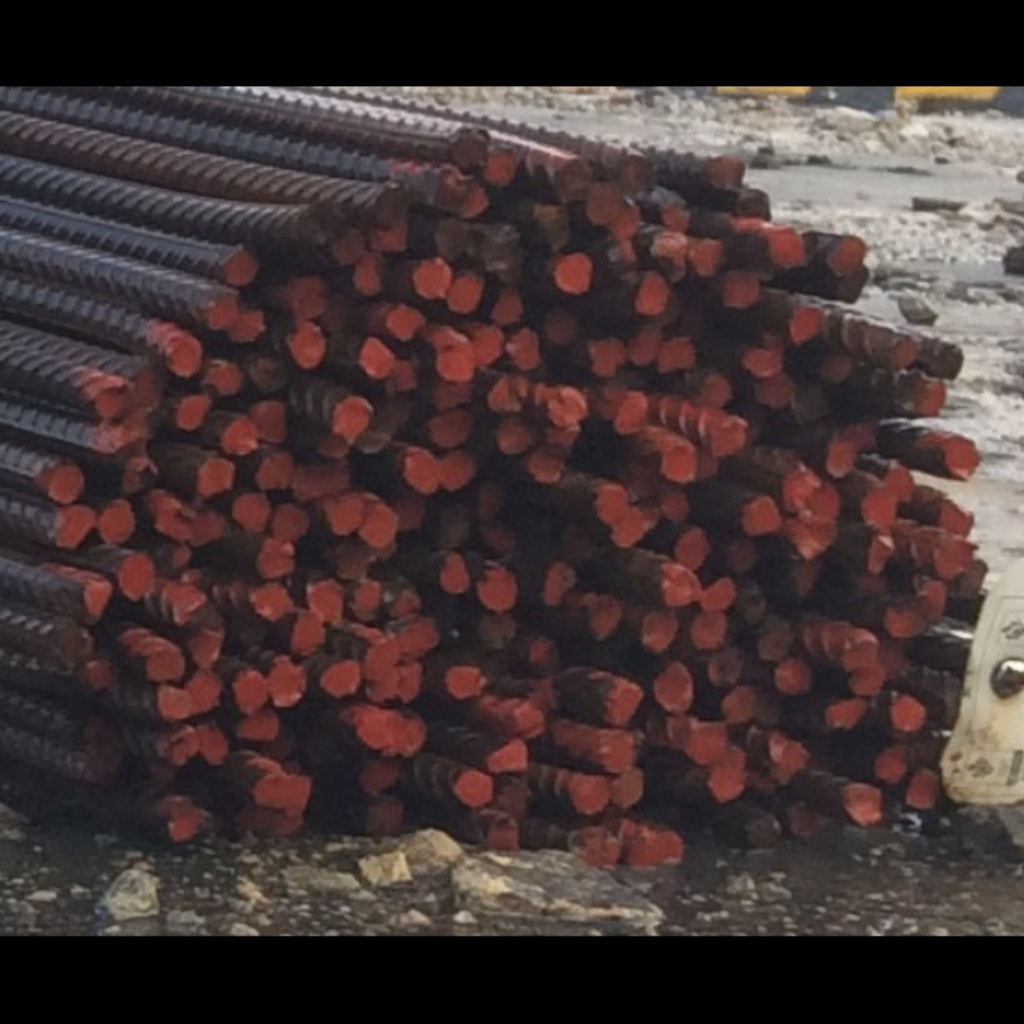dipstick: (627, 823, 680, 867), (569, 826, 619, 867), (481, 222, 524, 267), (786, 521, 839, 557), (96, 497, 134, 546), (710, 748, 745, 801), (53, 504, 96, 547), (766, 731, 808, 775), (653, 663, 693, 708), (366, 668, 418, 702), (252, 776, 315, 804), (600, 730, 640, 773), (267, 655, 302, 703), (434, 338, 474, 380), (479, 565, 516, 610), (658, 565, 700, 604), (687, 723, 726, 765), (554, 252, 594, 292), (612, 388, 647, 433), (531, 202, 565, 248), (902, 376, 941, 416), (217, 247, 258, 285), (541, 388, 582, 426), (738, 811, 780, 848), (117, 554, 151, 599), (587, 335, 627, 373), (705, 157, 745, 195), (884, 693, 924, 731), (758, 614, 791, 660), (650, 232, 687, 273), (768, 225, 804, 267), (839, 632, 881, 668), (288, 325, 323, 368), (404, 449, 439, 492), (587, 597, 622, 640), (287, 278, 326, 316), (361, 504, 398, 544), (552, 159, 589, 199), (942, 439, 979, 479), (453, 126, 489, 167), (434, 504, 469, 546), (609, 683, 643, 726), (484, 287, 522, 325), (325, 494, 361, 534), (361, 798, 401, 834), (788, 305, 824, 345), (781, 466, 816, 507), (335, 396, 370, 436), (884, 331, 919, 371), (429, 413, 474, 444), (929, 338, 960, 383), (234, 670, 268, 711), (250, 584, 292, 617), (821, 697, 863, 730), (595, 481, 627, 524), (741, 497, 778, 534), (804, 484, 841, 521), (307, 580, 341, 620), (353, 255, 385, 297), (197, 458, 234, 494), (257, 539, 292, 577), (413, 260, 451, 295), (932, 537, 967, 575), (848, 785, 882, 824), (167, 587, 207, 620), (449, 273, 482, 313), (509, 326, 539, 370), (394, 620, 438, 650), (476, 615, 516, 648), (589, 185, 622, 225), (164, 804, 205, 836), (711, 418, 743, 459), (433, 165, 464, 207), (363, 637, 399, 673), (698, 577, 735, 612), (723, 270, 760, 305), (695, 371, 730, 408), (355, 710, 401, 738), (255, 399, 287, 439), (434, 217, 466, 257), (439, 453, 474, 489), (660, 446, 695, 482), (569, 776, 605, 811), (642, 612, 677, 648), (635, 273, 663, 318), (866, 532, 894, 577), (385, 580, 421, 615), (386, 303, 424, 336), (320, 660, 358, 693), (610, 771, 643, 809), (675, 527, 708, 565), (619, 156, 652, 194), (906, 770, 939, 808), (544, 564, 575, 604), (222, 419, 257, 454), (692, 614, 728, 648), (793, 385, 829, 419), (165, 335, 202, 368), (152, 685, 189, 718), (255, 454, 292, 487), (788, 801, 821, 838), (882, 604, 924, 633), (446, 665, 484, 697), (912, 579, 944, 617), (770, 662, 809, 693), (390, 721, 424, 756), (454, 770, 489, 804), (708, 648, 740, 685), (474, 326, 504, 365), (736, 580, 765, 620), (489, 376, 524, 409), (828, 235, 863, 268), (146, 648, 182, 680), (49, 468, 86, 499), (487, 740, 524, 771), (486, 814, 517, 851), (189, 629, 219, 667), (753, 376, 791, 406), (190, 672, 219, 711), (939, 502, 972, 536), (828, 433, 854, 476), (627, 325, 658, 361), (157, 504, 190, 537), (275, 504, 308, 537), (361, 760, 394, 793), (509, 703, 542, 736), (204, 361, 238, 393), (819, 353, 853, 385), (692, 238, 723, 273), (861, 491, 896, 522), (439, 554, 466, 594), (725, 687, 755, 723), (205, 295, 237, 328), (874, 748, 906, 781), (238, 713, 280, 738), (235, 492, 265, 527), (658, 338, 688, 373), (849, 667, 884, 697), (199, 726, 227, 763), (615, 509, 643, 546), (479, 482, 507, 519), (376, 182, 403, 220), (743, 348, 781, 375), (497, 419, 529, 451), (308, 207, 341, 238), (546, 305, 575, 340), (484, 526, 519, 555), (361, 338, 388, 375), (527, 638, 554, 675), (331, 232, 363, 263), (657, 194, 687, 227), (738, 189, 768, 222), (81, 580, 109, 615), (247, 358, 282, 386), (175, 394, 205, 426), (882, 468, 911, 501), (434, 383, 472, 408), (351, 582, 376, 620), (370, 224, 406, 250), (660, 491, 690, 522), (167, 731, 199, 760), (56, 630, 89, 658), (235, 308, 263, 341), (529, 456, 562, 484), (836, 272, 869, 300), (97, 383, 126, 414), (126, 366, 154, 398), (487, 154, 514, 187), (464, 184, 489, 215), (293, 624, 318, 655), (843, 426, 876, 449), (86, 660, 111, 690), (615, 202, 635, 235), (102, 428, 131, 448)
